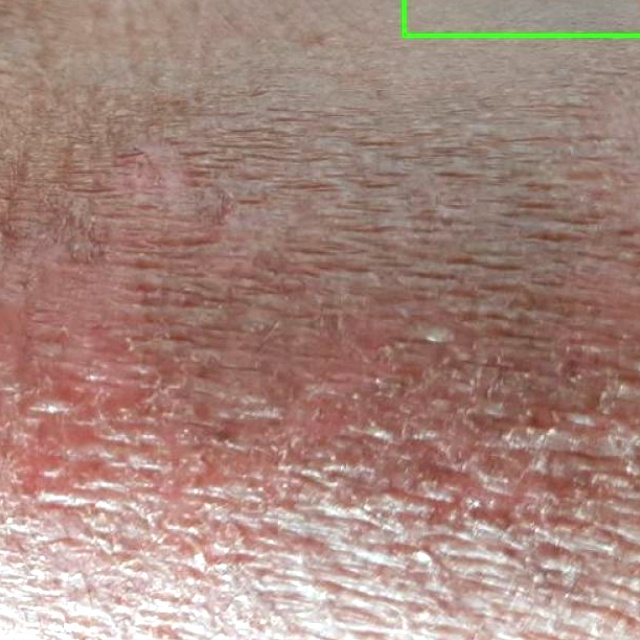Seborrheic Dermatitis: (404, 0, 639, 35)
